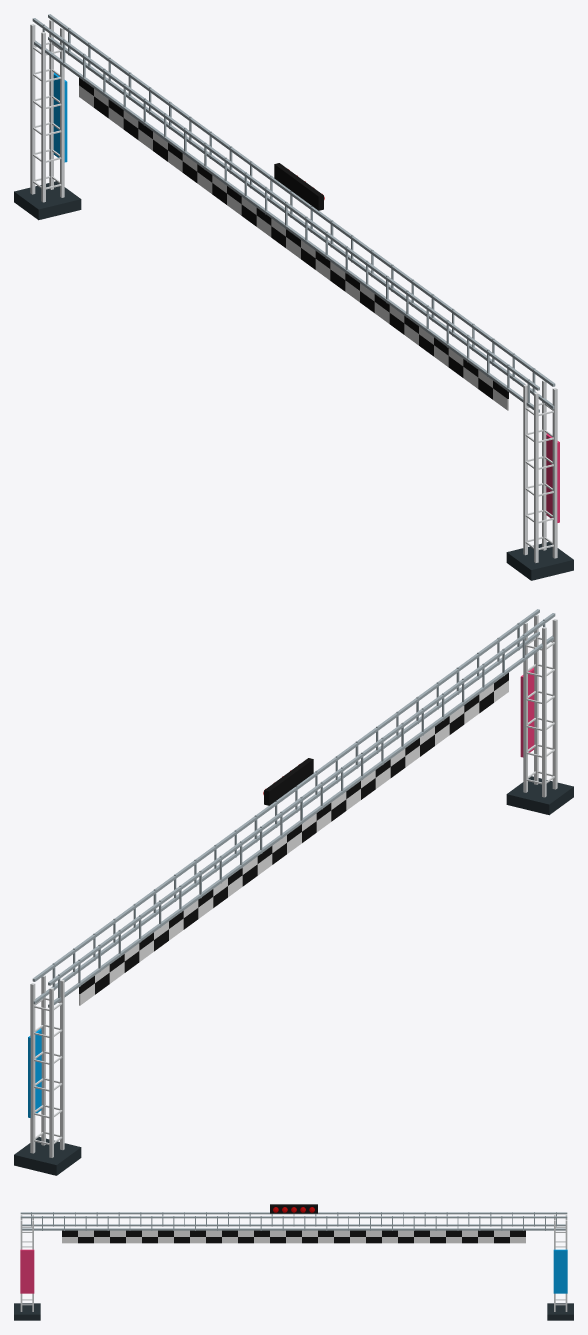
File: StartGantry.glb
3 views of the same model, one above another, from view 1: azimuth 30°, elevation 25°; view 2: azimuth 150°, elevation 25°; view 3: azimuth 270°, elevation 25° (orthographic). The views are drawn at different scales.
Parts seen in each view (by area): view 1: StartGantry; view 2: StartGantry; view 3: StartGantry.
Boxes of the visible parts, <box> form: StartGantry: <box>14,14,573,580</box>; StartGantry: <box>14,609,573,1175</box>; StartGantry: <box>14,1204,573,1320</box>.
Size of the model in its own units: 5 by 23 by 105.
